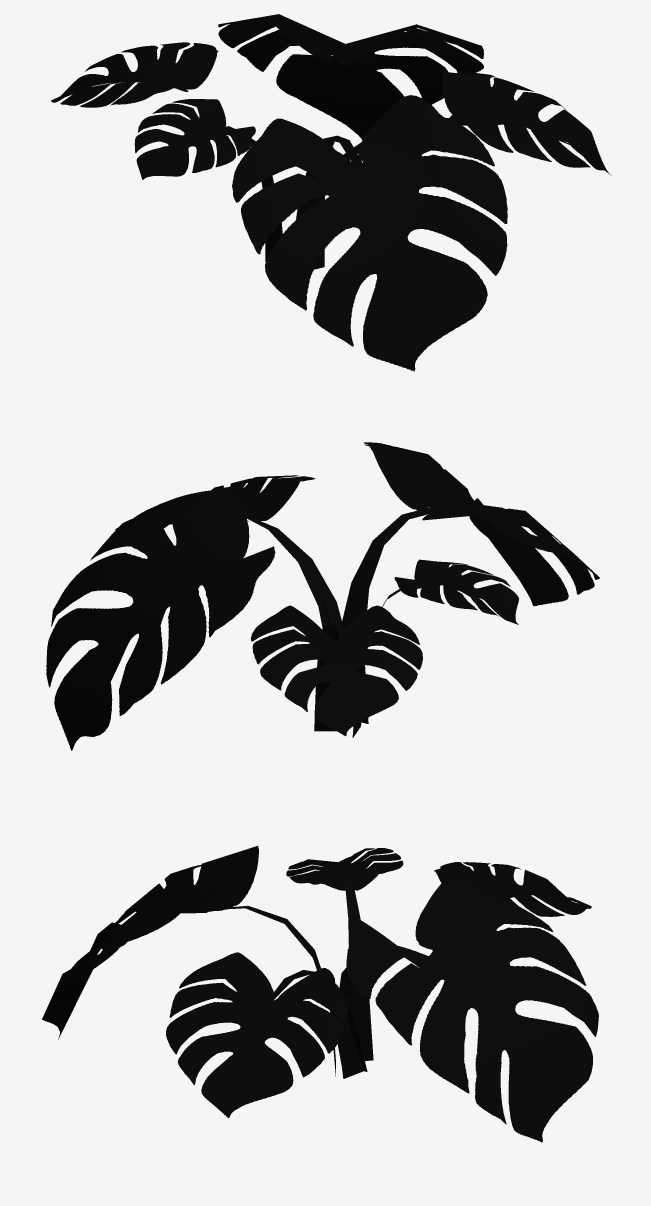
File: Plant_3.fbx
The picture shows the model from 3 angles, top to bottom: view 1: azimuth 30°, elevation 25°; view 2: azimuth 150°, elevation 25°; view 3: azimuth 270°, elevation 25°; orthographic projection. The views are drawn at different scales.
Parts seen in each view (by area): view 1: Plant_3; view 2: Plant_3; view 3: Plant_3.
Boxes of the visible parts, box(x1,y1,x2,y2) form: Plant_3: box(51, 14, 611, 371); Plant_3: box(46, 442, 599, 750); Plant_3: box(42, 845, 598, 1142).
Bounding box in the file's own units: 62.98 × 27.96 × 74.41.
Materials: 1 (1 with a texture image).
